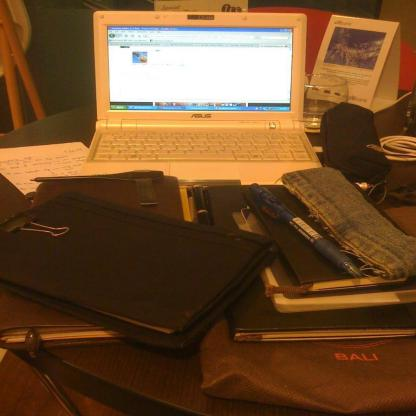board: (94, 9, 323, 186)
